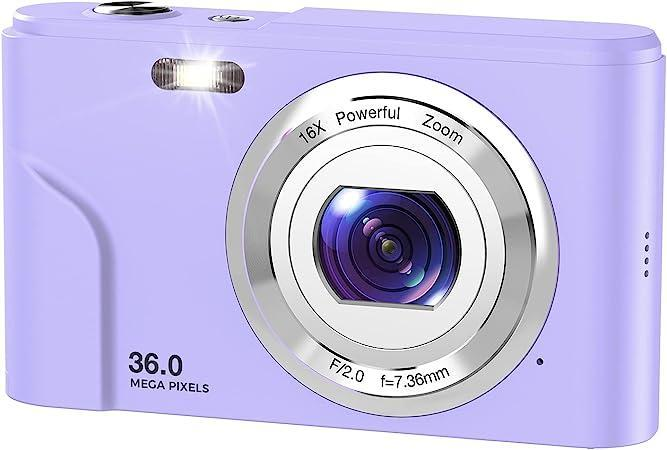degital-camera: (0, 0, 666, 447)
